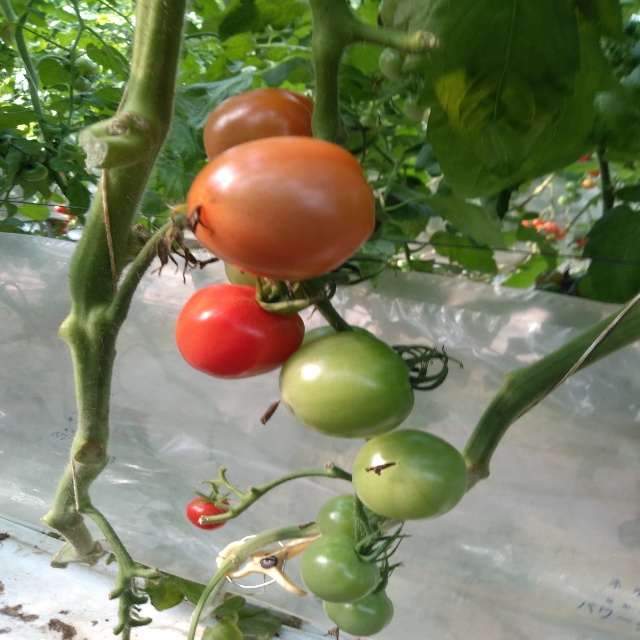l_fully_ripened: (176, 285, 306, 380), (187, 496, 230, 530)
l_green: (280, 325, 415, 439), (352, 430, 467, 521), (302, 535, 379, 603), (322, 589, 392, 636), (317, 494, 370, 539)
l_half_ripened: (187, 136, 375, 280), (204, 89, 314, 159)
